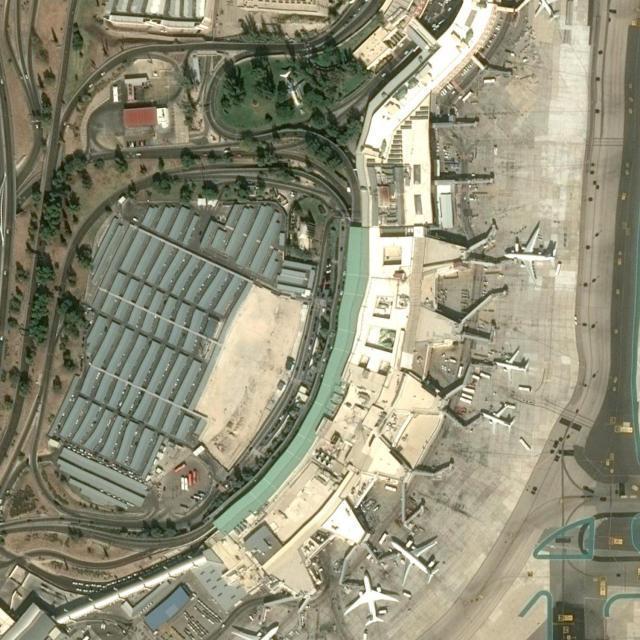Aircraft: (502, 225, 559, 281), (344, 570, 399, 627), (387, 537, 441, 589), (492, 349, 530, 382), (480, 405, 516, 436), (533, 0, 563, 22), (236, 625, 282, 639)
